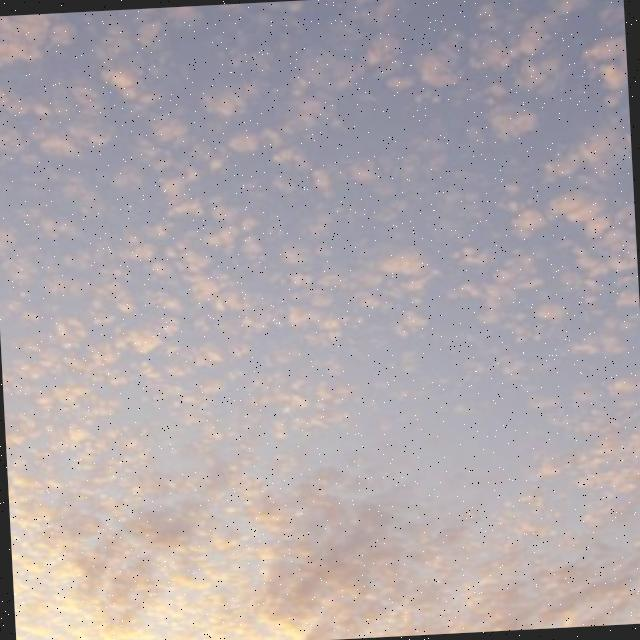Ac: (1, 11, 640, 635)
